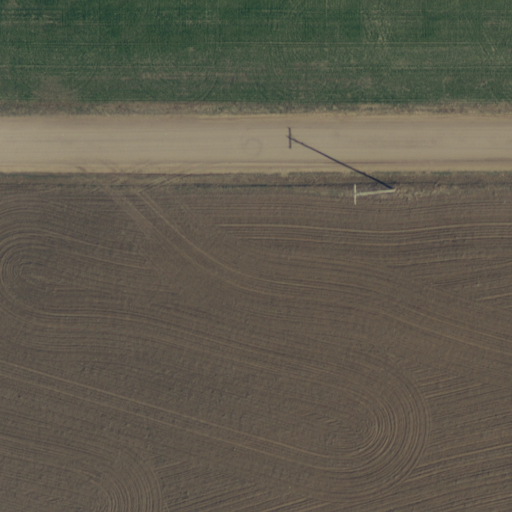DT: (344, 173, 403, 212)
